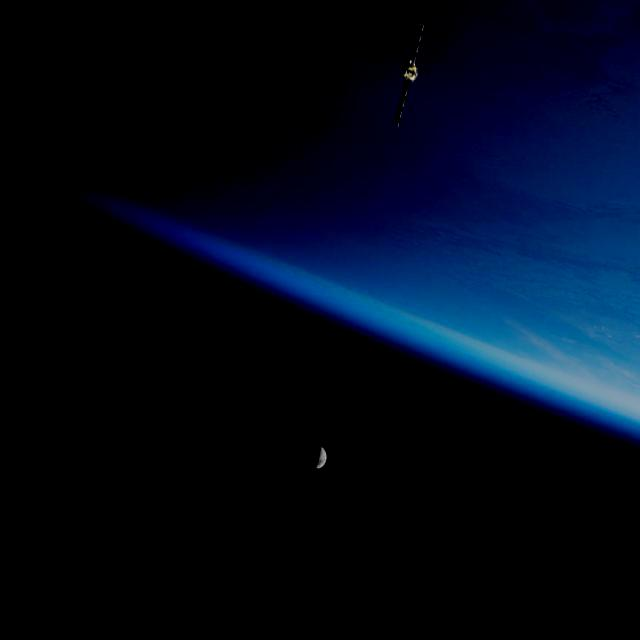satellite: (384, 0, 441, 139)
